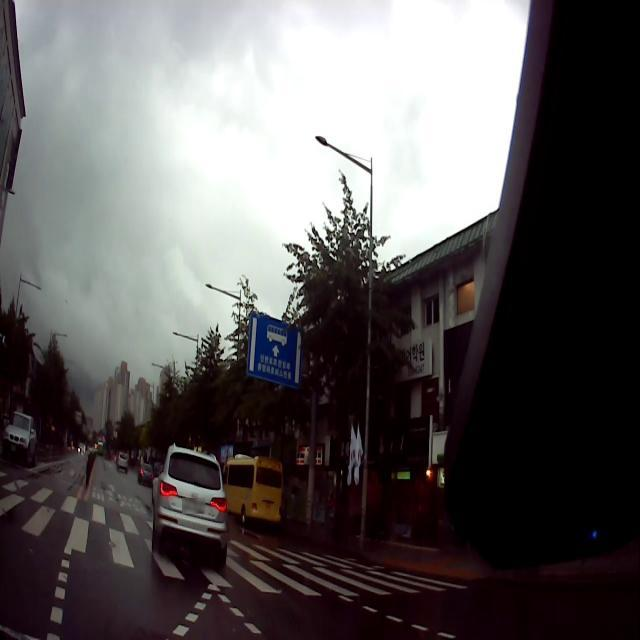crosswalk: (0, 468, 470, 595)
